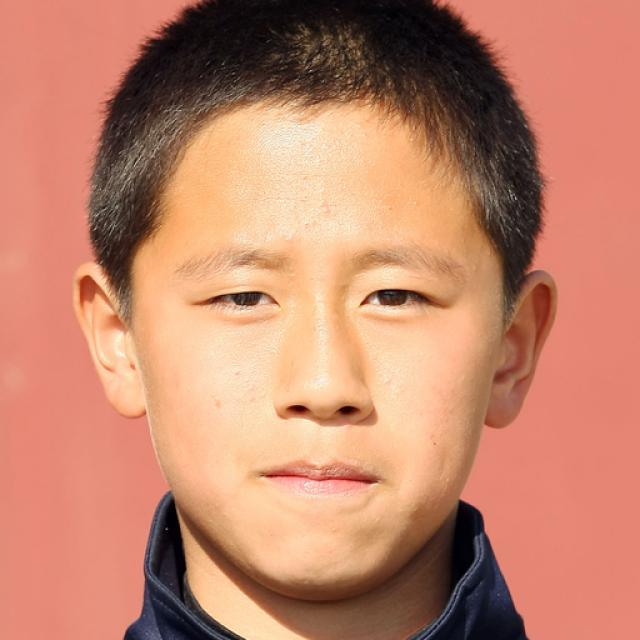neutral: (138, 85, 496, 593)
